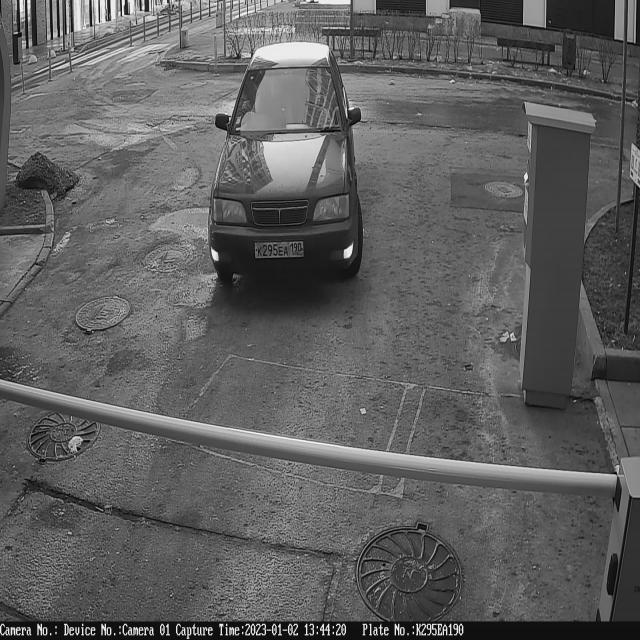car-plate-numbers: (253, 238, 307, 263)
